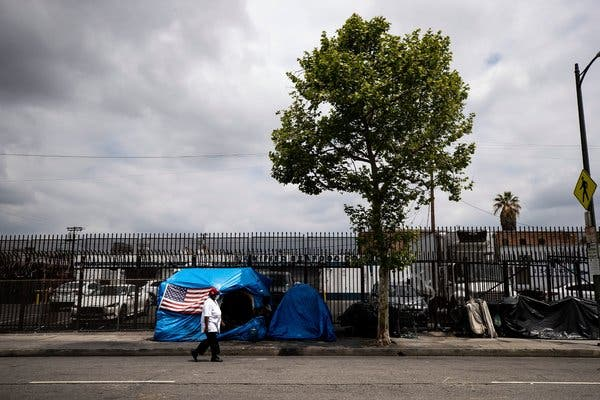tree: (268, 10, 477, 348)
